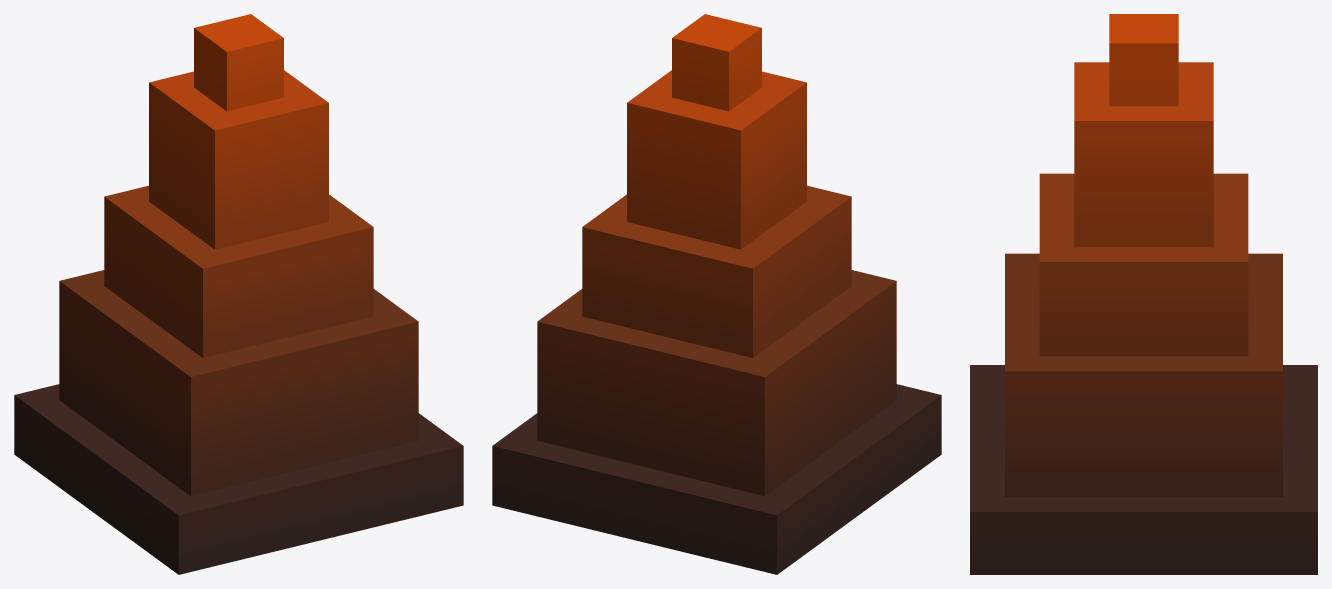
Rendered from Obstacle_2.fbx.
3 views of the same model, side by side, from view 1: azimuth 30°, elevation 25°; view 2: azimuth 150°, elevation 25°; view 3: azimuth 270°, elevation 25° (orthographic). The views are drawn at different scales.
Visible parts, largest first — view 1: Obstacle_2; view 2: Obstacle_2; view 3: Obstacle_2.
Part boxes in pixels (x1=…): Obstacle_2: x1=14, y1=14, x2=463, y2=574; Obstacle_2: x1=492, y1=14, x2=941, y2=574; Obstacle_2: x1=970, y1=14, x2=1317, y2=574.
Bounding box in the file's own units: 10 × 15 × 10.
Materials: 1 (1 with a texture image).
